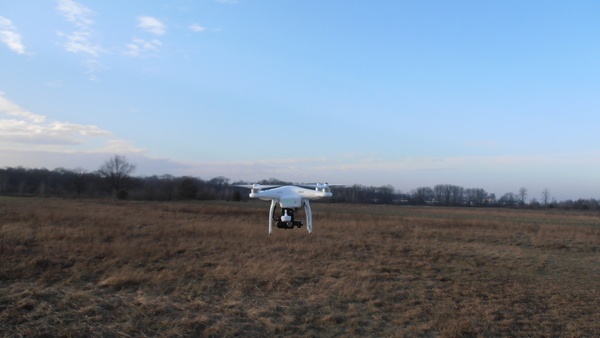drone: (229, 179, 347, 235)
